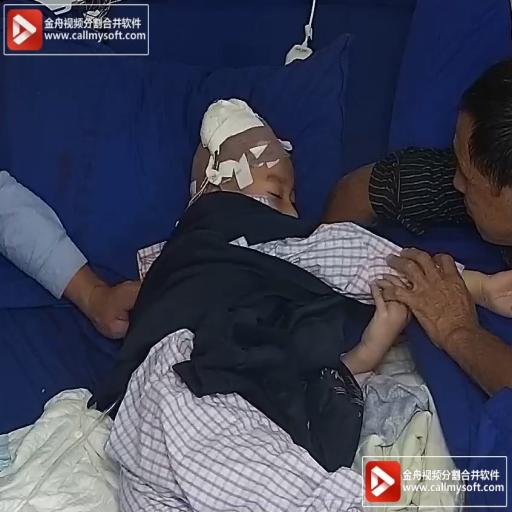Seizure: (246, 156, 306, 218)
